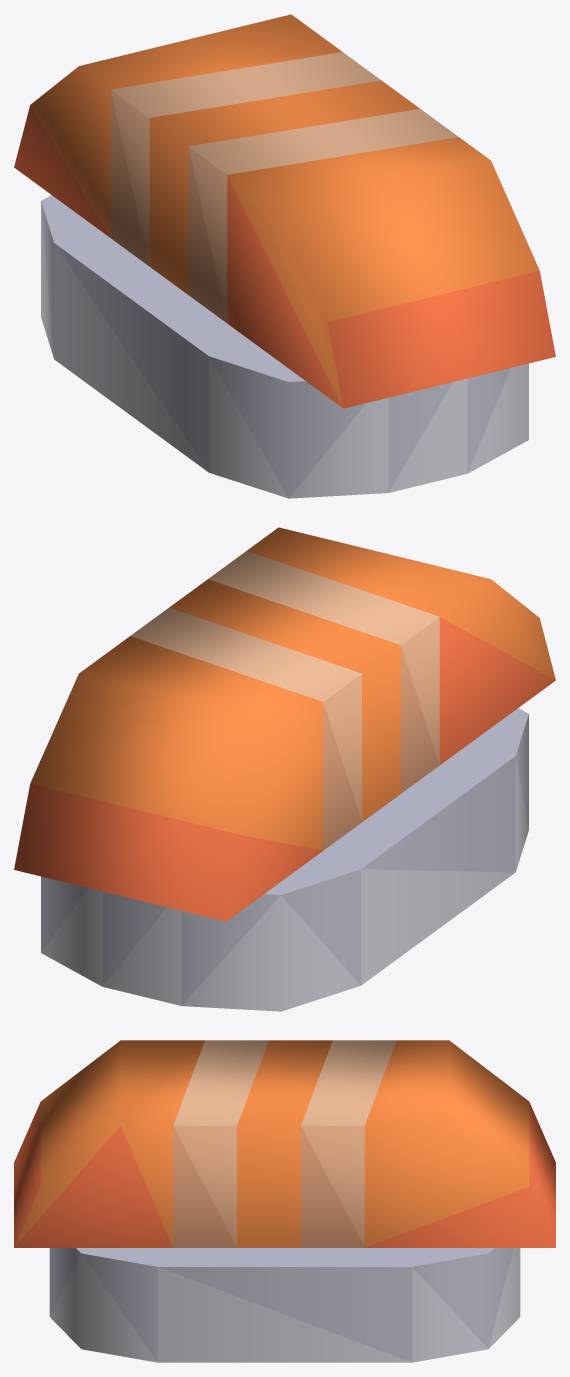
File: sushi.glb
The picture shows the model from 3 angles, top to bottom: view 1: azimuth 30°, elevation 25°; view 2: azimuth 150°, elevation 25°; view 3: azimuth 270°, elevation 25°; orthographic projection. The views are drawn at different scales.
Parts seen in each view (by area): view 1: sushi-salmon; view 2: sushi-salmon; view 3: sushi-salmon.
Boxes of the visible parts, x1,y1,x2,y2 form: sushi-salmon: (14, 14, 555, 498); sushi-salmon: (14, 527, 555, 1011); sushi-salmon: (14, 1040, 555, 1362).
Bounding box in the file's own units: 0.1079 × 0.0892 × 0.2008.
